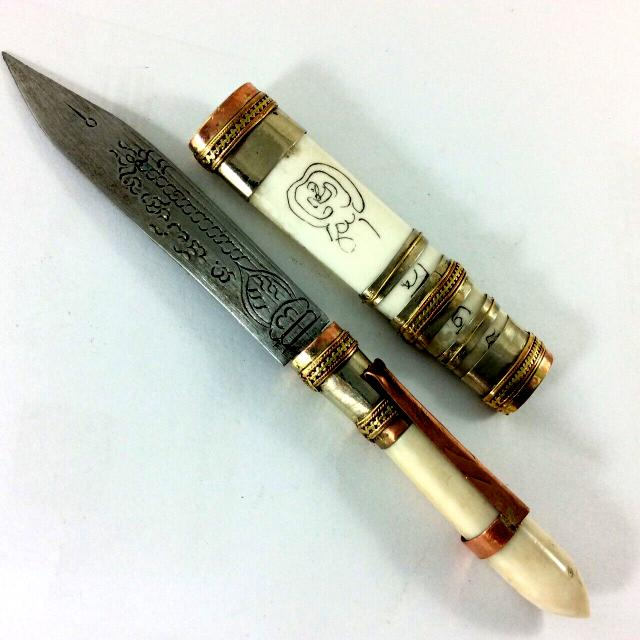short sword: (2, 45, 598, 626)
